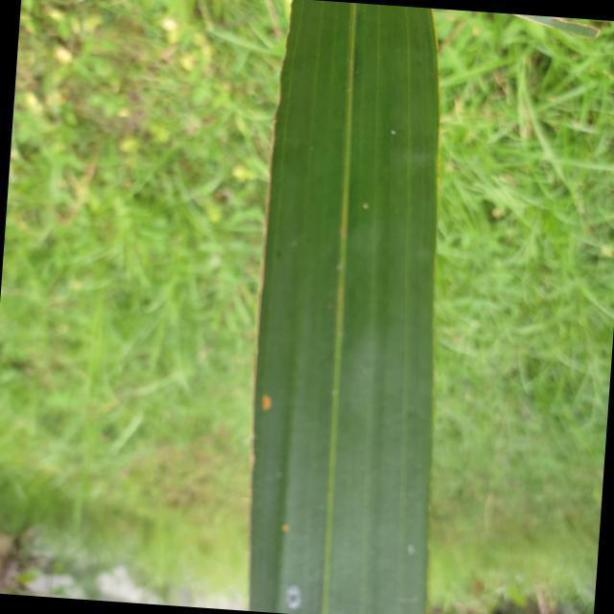Kalium: (245, 0, 441, 614)
